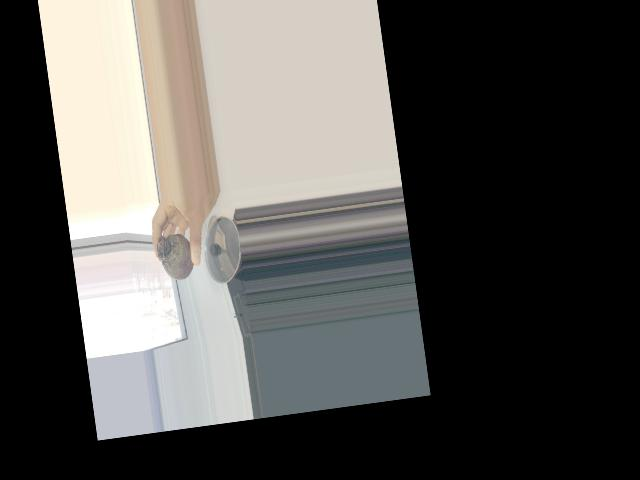beet: (153, 219, 196, 283)
